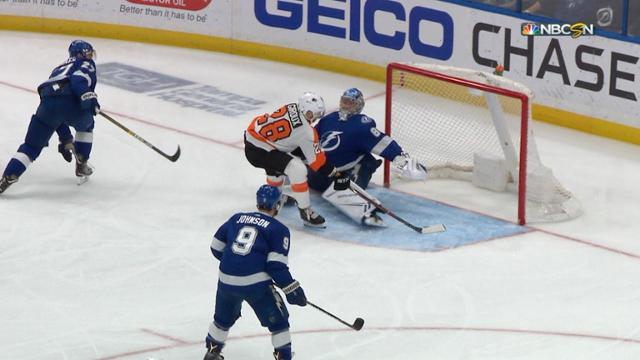geico: (242, 1, 466, 63)
